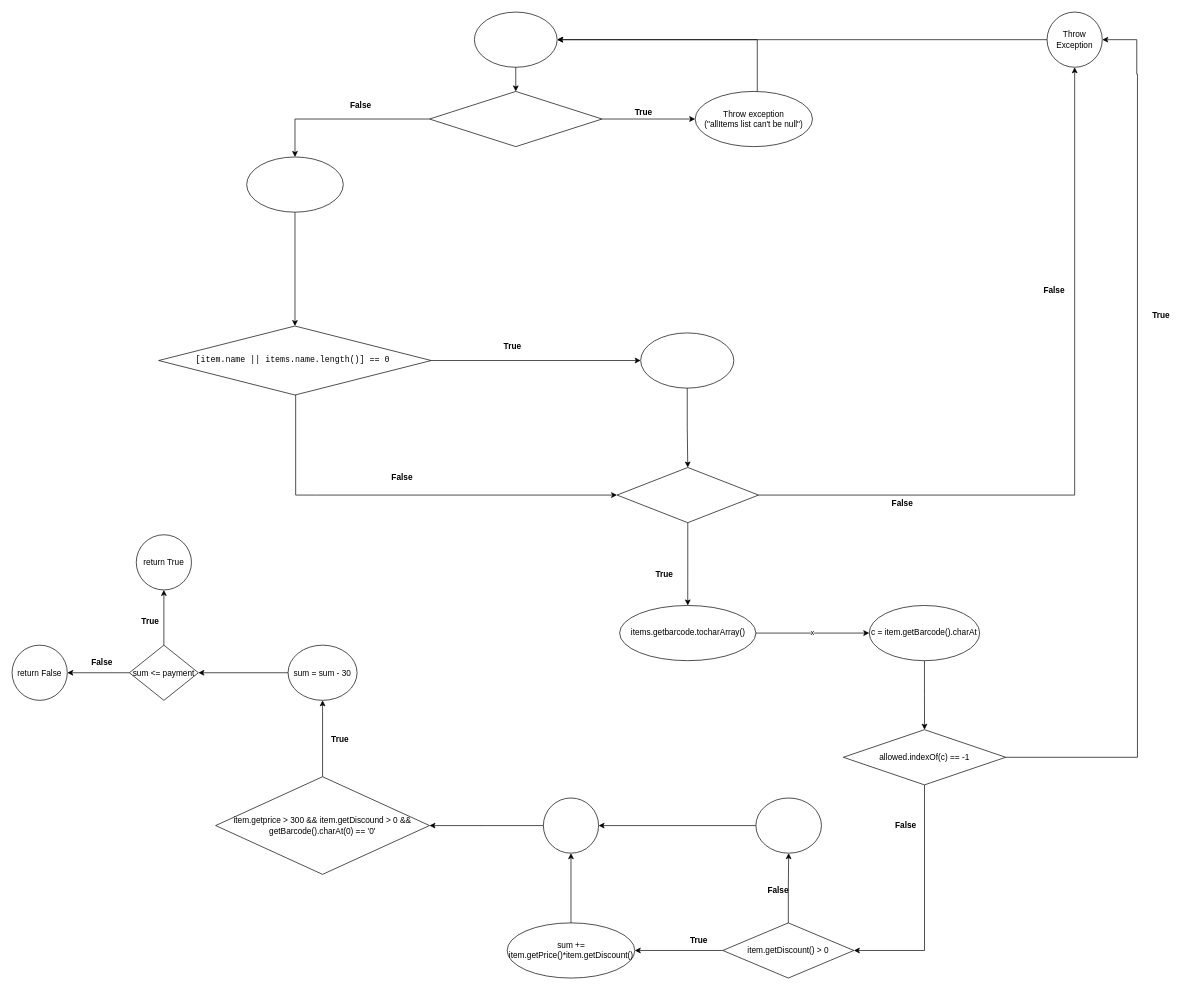
This 1190x990 diagram has some shape labels left out. The centre of each missing label's shape, as x and y in pixels:
allItems == null: the point at 515,119
Item = allItems.get(i): the point at 294,184
item.setname == "null": the point at 687,360
items.getBarcode != null: the point at 687,495
Start: the point at 515,39
sum: the point at 571,825
sum+= item.getPrice(): the point at 788,825
